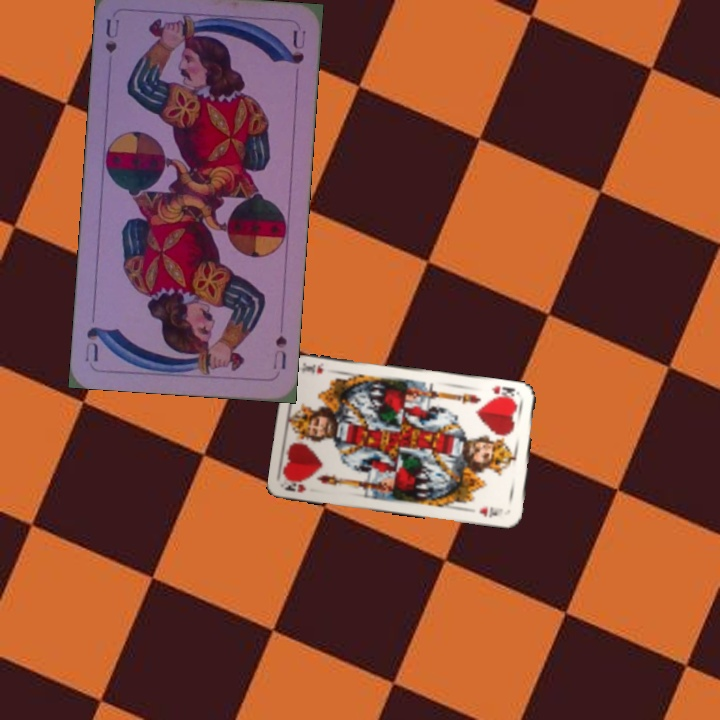HK: (487, 382, 523, 403), (281, 476, 308, 495)
SU: (101, 15, 122, 55), (269, 332, 290, 372)
